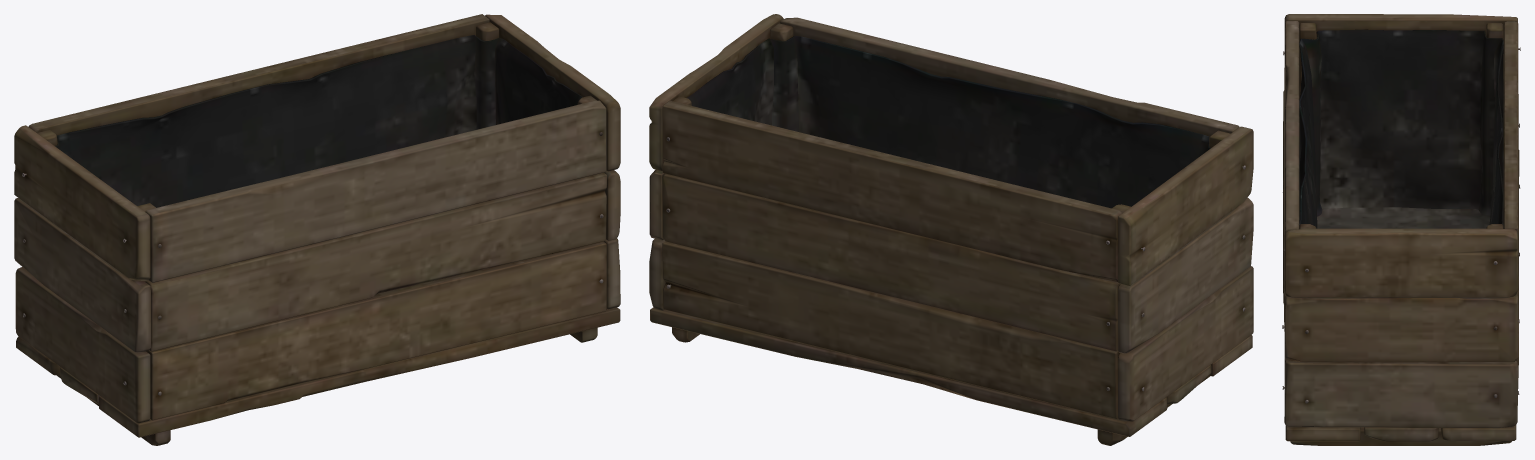
Rendered from planter-box.glb.
3 views of the same model, side by side, from view 1: azimuth 30°, elevation 25°; view 2: azimuth 150°, elevation 25°; view 3: azimuth 270°, elevation 25° (orthographic). The views are drawn at different scales.
Parts seen in each view (by area): view 1: planter_box_01; view 2: planter_box_01; view 3: planter_box_01.
Part boxes in pixels (bbox=[...]): planter_box_01: bbox=[14, 14, 620, 445]; planter_box_01: bbox=[649, 14, 1253, 445]; planter_box_01: bbox=[1282, 14, 1520, 445].
Size of the model in its own units: 0.9126 by 0.425 by 0.4137.
1 material, 1 textured.
